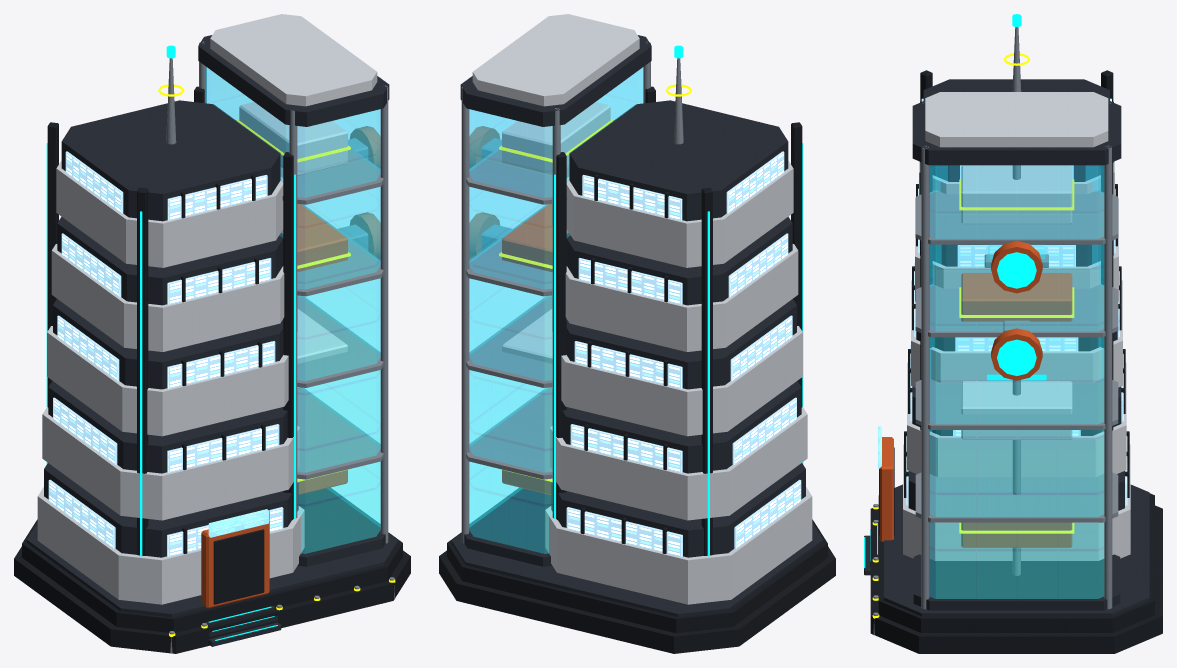
File: bldg_14_r1_02.glb
3 renders of one model, left to right at view 1: azimuth 30°, elevation 25°; view 2: azimuth 150°, elevation 25°; view 3: azimuth 270°, elevation 25°, orthographic.
Visible parts, largest first — view 1: Bldg14_C02_aero_white, Bldg14_C02_carbon_slate, Bldg14_C02_glass_cyan, Bldg14_C02_gunmetal, Bldg14_C02_steel_machined, Bldg14_C02_window_lit, Bldg14_C02_accent_orange, Bldg14_C02_led_cyan, Bldg14_C02_marquee, Bldg14_C02_led_amber; view 2: Bldg14_C02_aero_white, Bldg14_C02_carbon_slate, Bldg14_C02_glass_cyan, Bldg14_C02_gunmetal, Bldg14_C02_steel_machined, Bldg14_C02_window_lit, Bldg14_C02_accent_orange, Bldg14_C02_led_cyan, Bldg14_C02_led_amber; view 3: Bldg14_C02_glass_cyan, Bldg14_C02_aero_white, Bldg14_C02_steel_machined, Bldg14_C02_carbon_slate, Bldg14_C02_gunmetal, Bldg14_C02_accent_orange, Bldg14_C02_window_lit, Bldg14_C02_led_cyan, Bldg14_C02_led_amber.
Boxes of the visible parts, x1,y1,x2,y2 form: Bldg14_C02_aero_white: [37, 14, 377, 604]; Bldg14_C02_carbon_slate: [26, 35, 398, 646]; Bldg14_C02_glass_cyan: [206, 67, 380, 553]; Bldg14_C02_gunmetal: [14, 86, 410, 653]; Bldg14_C02_steel_machined: [166, 41, 395, 653]; Bldg14_C02_window_lit: [48, 151, 283, 556]; Bldg14_C02_accent_orange: [201, 126, 380, 608]; Bldg14_C02_led_cyan: [46, 45, 295, 640]; Bldg14_C02_marquee: [208, 509, 268, 537]; Bldg14_C02_led_amber: [158, 84, 395, 636]; Bldg14_C02_aero_white: [472, 14, 812, 604]; Bldg14_C02_carbon_slate: [451, 35, 823, 617]; Bldg14_C02_glass_cyan: [469, 67, 643, 553]; Bldg14_C02_gunmetal: [439, 86, 835, 653]; Bldg14_C02_steel_machined: [461, 41, 683, 543]; Bldg14_C02_window_lit: [566, 151, 801, 556]; Bldg14_C02_accent_orange: [469, 126, 568, 494]; Bldg14_C02_led_cyan: [554, 45, 803, 556]; Bldg14_C02_led_amber: [499, 84, 691, 481]; Bldg14_C02_glass_cyan: [929, 165, 1104, 598]; Bldg14_C02_aero_white: [903, 92, 1130, 560]; Bldg14_C02_steel_machined: [873, 27, 1118, 635]; Bldg14_C02_carbon_slate: [864, 79, 1149, 616]; Bldg14_C02_gunmetal: [870, 70, 1162, 653]; Bldg14_C02_accent_orange: [879, 241, 1072, 547]; Bldg14_C02_window_lit: [906, 98, 1127, 505]; Bldg14_C02_led_cyan: [864, 14, 1046, 568]; Bldg14_C02_led_amber: [872, 53, 1074, 618].
Bounding box in the file's own units: 12.49 × 20.52 × 10.23.
10 materials, 10 textured.
